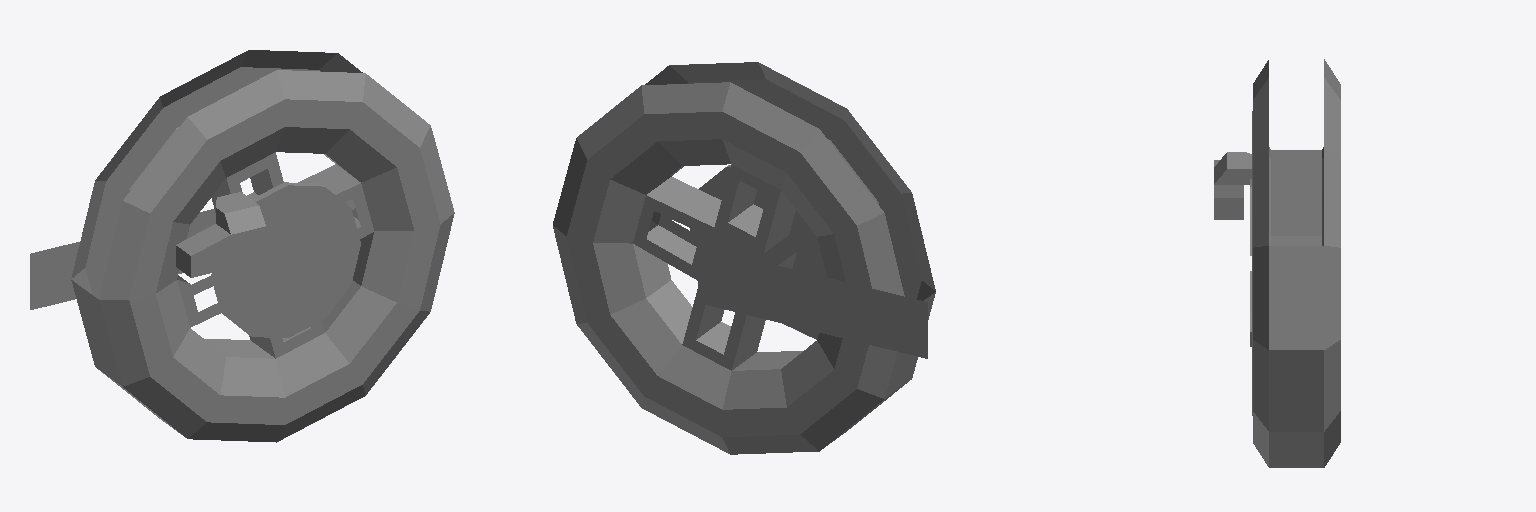
Rendered from llantaT.obj.
3 views of the same model, side by side, from view 1: azimuth 30°, elevation 25°; view 2: azimuth 150°, elevation 25°; view 3: azimuth 270°, elevation 25° (orthographic).
Parts seen in each view (by area): view 1: Object002; view 2: Object002; view 3: Object002.
Boxes of the visible parts, <box> form: Object002: <box>30,50,454,442</box>; Object002: <box>553,62,935,454</box>; Object002: <box>1214,59,1340,467</box>.
Size of the model in its own units: 3.72 by 3.42 by 1.1.